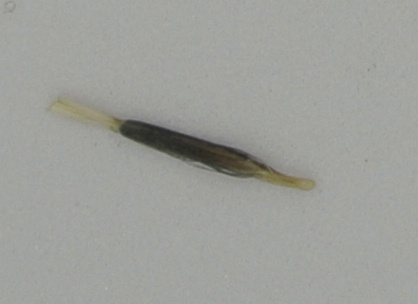เมล้ดปลายพู่กัน: (47, 94, 318, 193)
